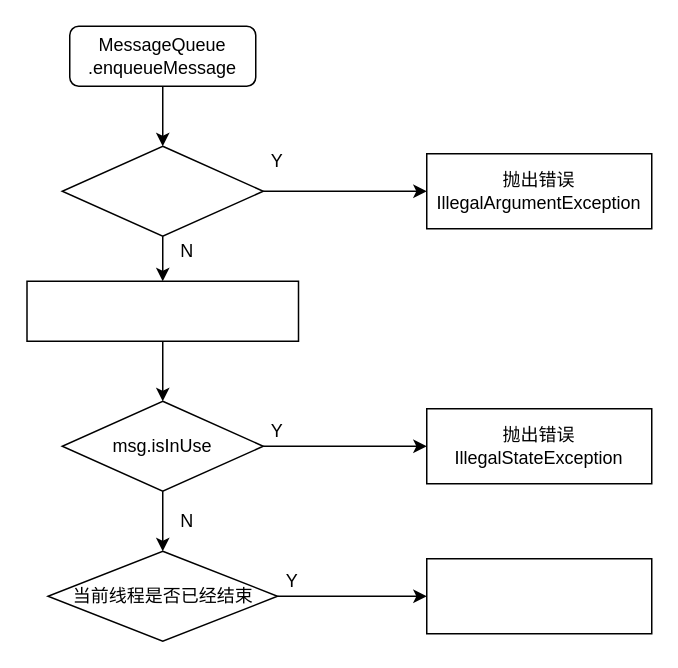
The diagram is 678 pixels wide and 668 high, and some of its shapes have lost their labels. Each missing label, with the centre of its shape:
msg.target==null: the point at 162,190
synchronize(MessageQueue): the point at 162,310
回收msg, retturn false: the point at 538,595
